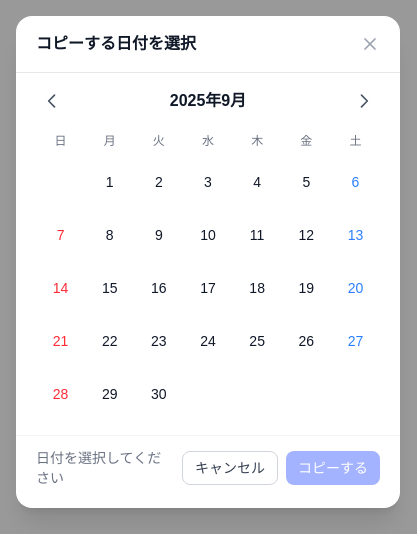
Test: CopyWorkModal › 日付を選択すると「N日選択中」が表示される
Check: the text "2025年9月" is shown, box [170,89,246,113]
What coordinates should you click on to do the following:
click the button "10"
I would click on:
 (208, 235)
Its box is [183,210,232,259].
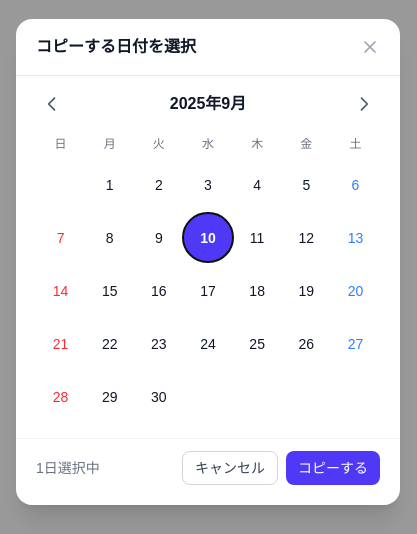
Check: the text "1日選択中" is shown, box [36,458,100,478]
What coordinates should you click on to do the following:
click the button "11"
I would click on:
 (257, 238)
Its box is [233,213,282,262].
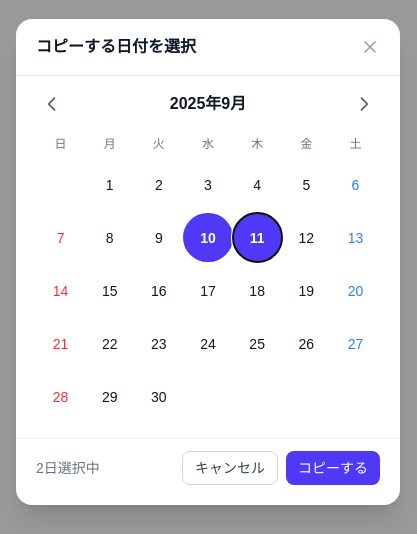
Check: the text "2日選択中" is shown, box [36,458,100,478]
